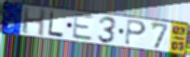3: (97, 16, 117, 45)
7: (150, 22, 170, 50)
E: (71, 12, 95, 42)
H: (21, 6, 47, 38)
L: (47, 10, 64, 39)
P: (124, 19, 148, 47)
